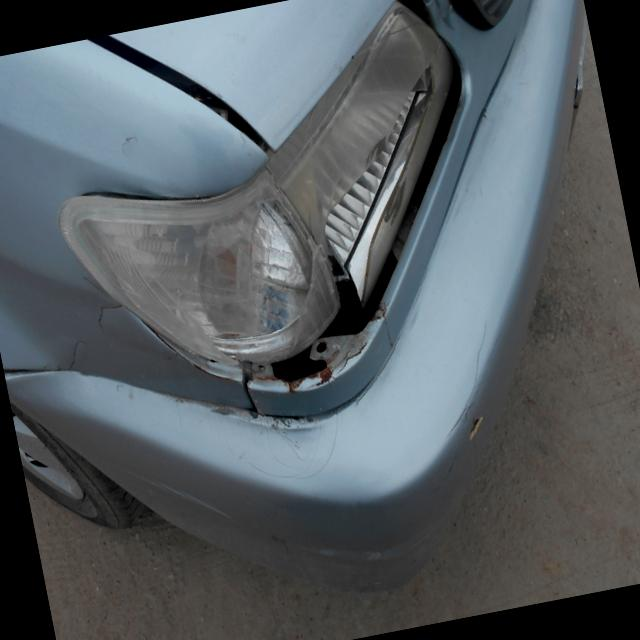Dechirure: (238, 244, 454, 402)
Phare abime: (205, 100, 489, 417)
Rayure: (53, 275, 146, 383)
